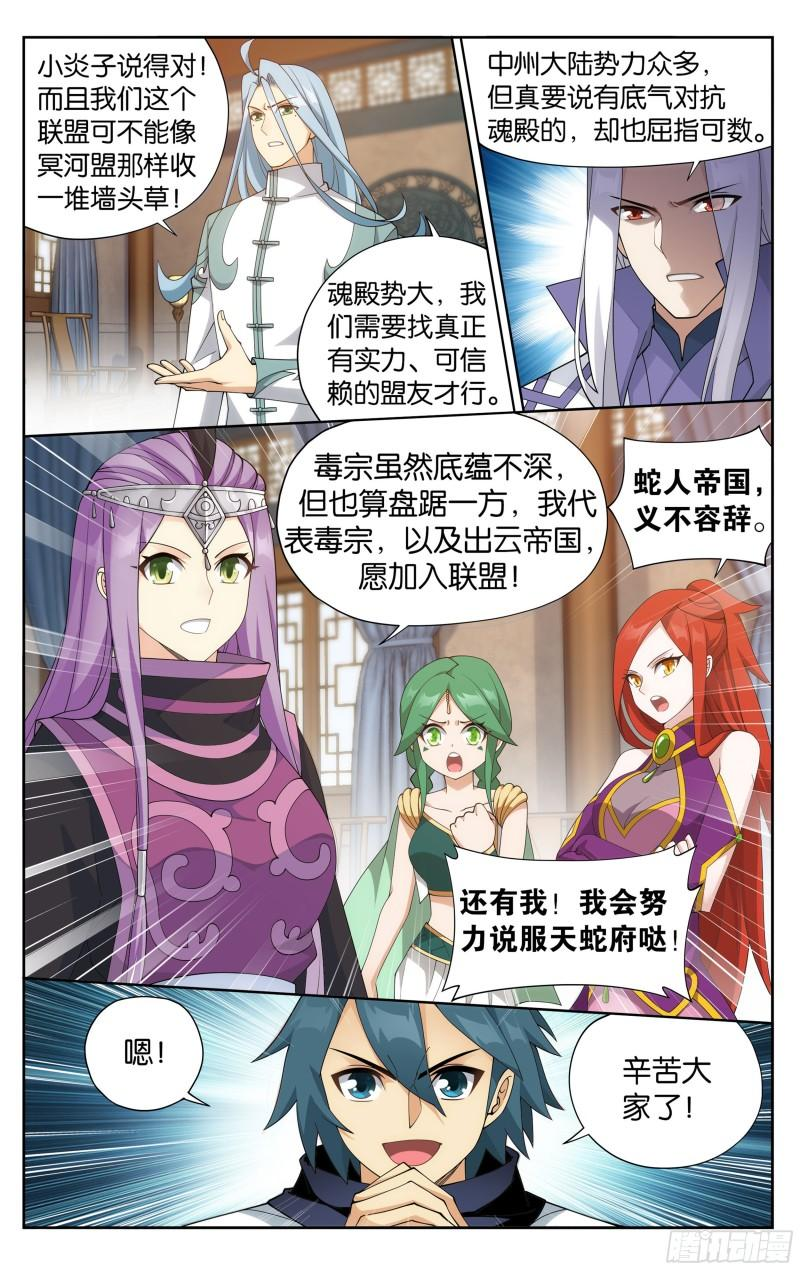boxBomb: (438, 844, 705, 1000), (612, 428, 771, 574)
boxEllipse: (276, 414, 610, 642), (459, 35, 771, 176), (295, 218, 512, 420), (24, 35, 225, 236), (561, 1012, 759, 1168), (84, 997, 210, 1117)
minBox: (18, 398, 771, 1024), (21, 35, 516, 437), (20, 974, 769, 1224), (456, 35, 771, 410)
